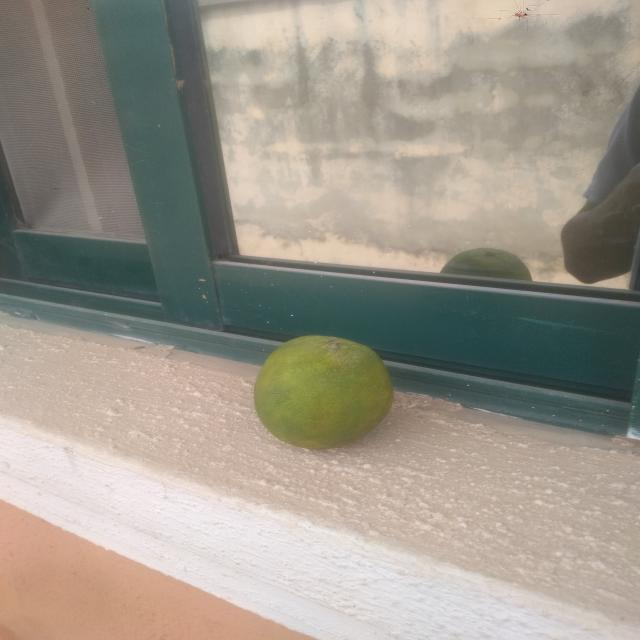Unripe: (222, 328, 420, 464)
